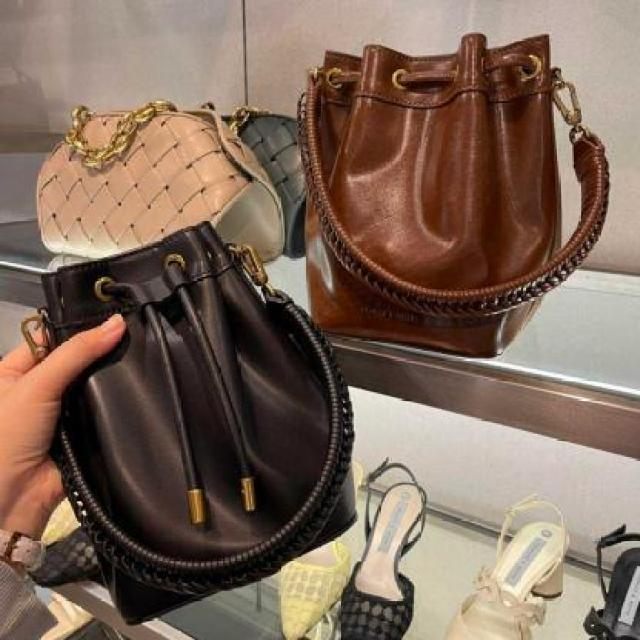Bag: (36, 213, 401, 621), (281, 25, 640, 365), (13, 79, 322, 286)
